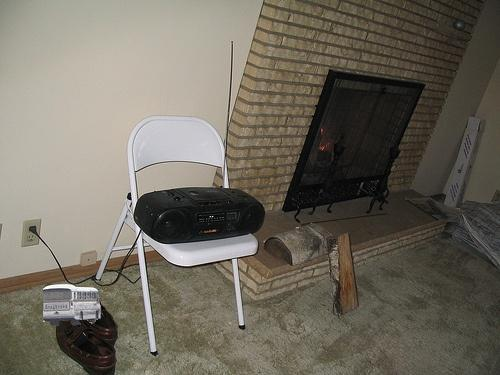tampered: (44, 285, 101, 326)
